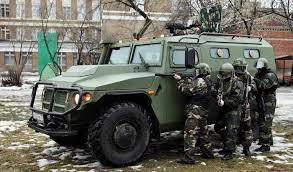armored_car: (39, 21, 283, 162)
